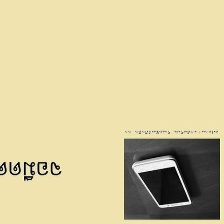phone: (130, 152, 195, 213)
